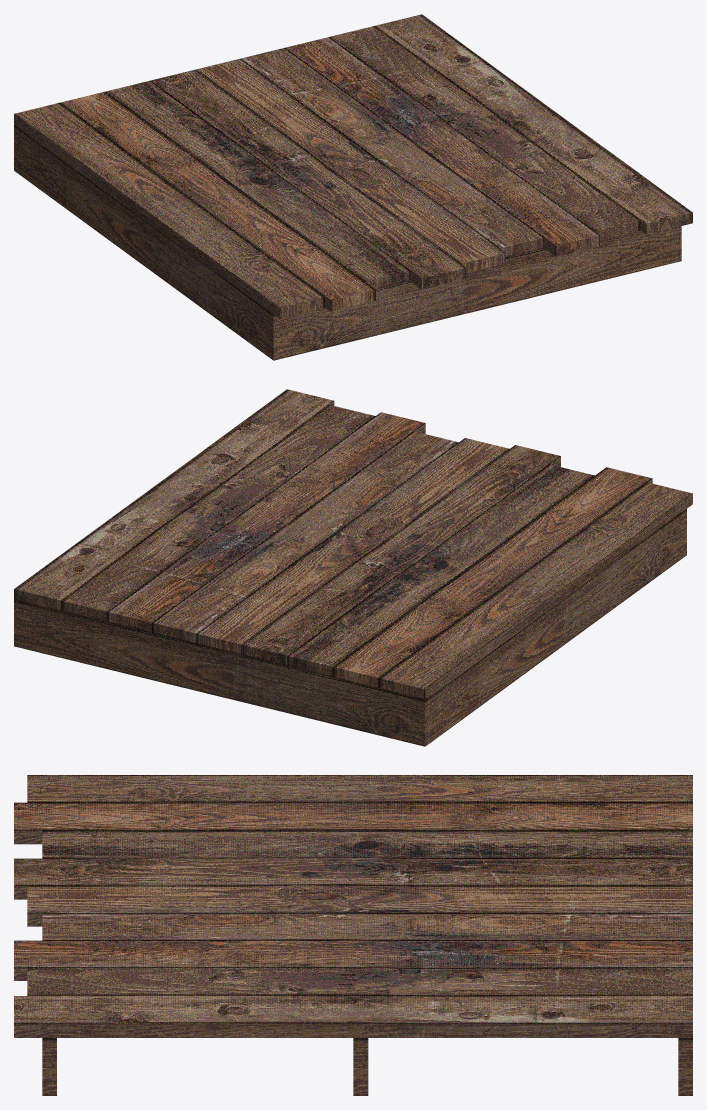
The model's file is floor-porch-L.glb.
3 renders of one model, top to bottom at view 1: azimuth 30°, elevation 25°; view 2: azimuth 150°, elevation 25°; view 3: azimuth 270°, elevation 25°, orthographic. The views are drawn at different scales.
Visible parts, largest first — view 1: floor-porch-L.001; view 2: floor-porch-L.001; view 3: floor-porch-L.001.
Part boxes in pixels (x1,y1,x2,y2): floor-porch-L.001: (14,14,692,360); floor-porch-L.001: (14,389,692,746); floor-porch-L.001: (14,775,692,1095).
Size of the model in its own units: 2 by 0.2661 by 2.3.
1 material, 1 textured.
